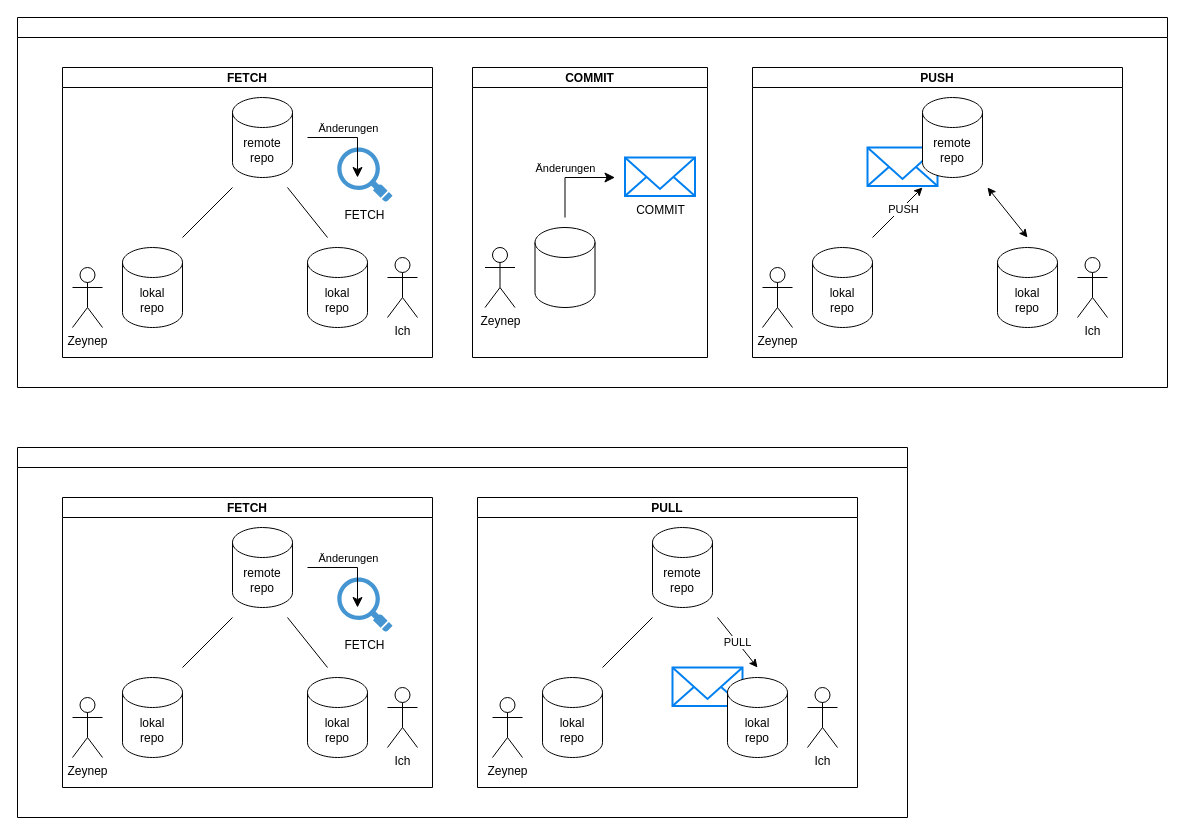
Image size: 1185x835. Some labels were removed from this diagram. Here are the shapes that lost their labels. From the top down, the box of each, then its label:
(16, 16, 1168, 388): Änderungen hochladen
(16, 446, 908, 818): Änderungen herunterladen
